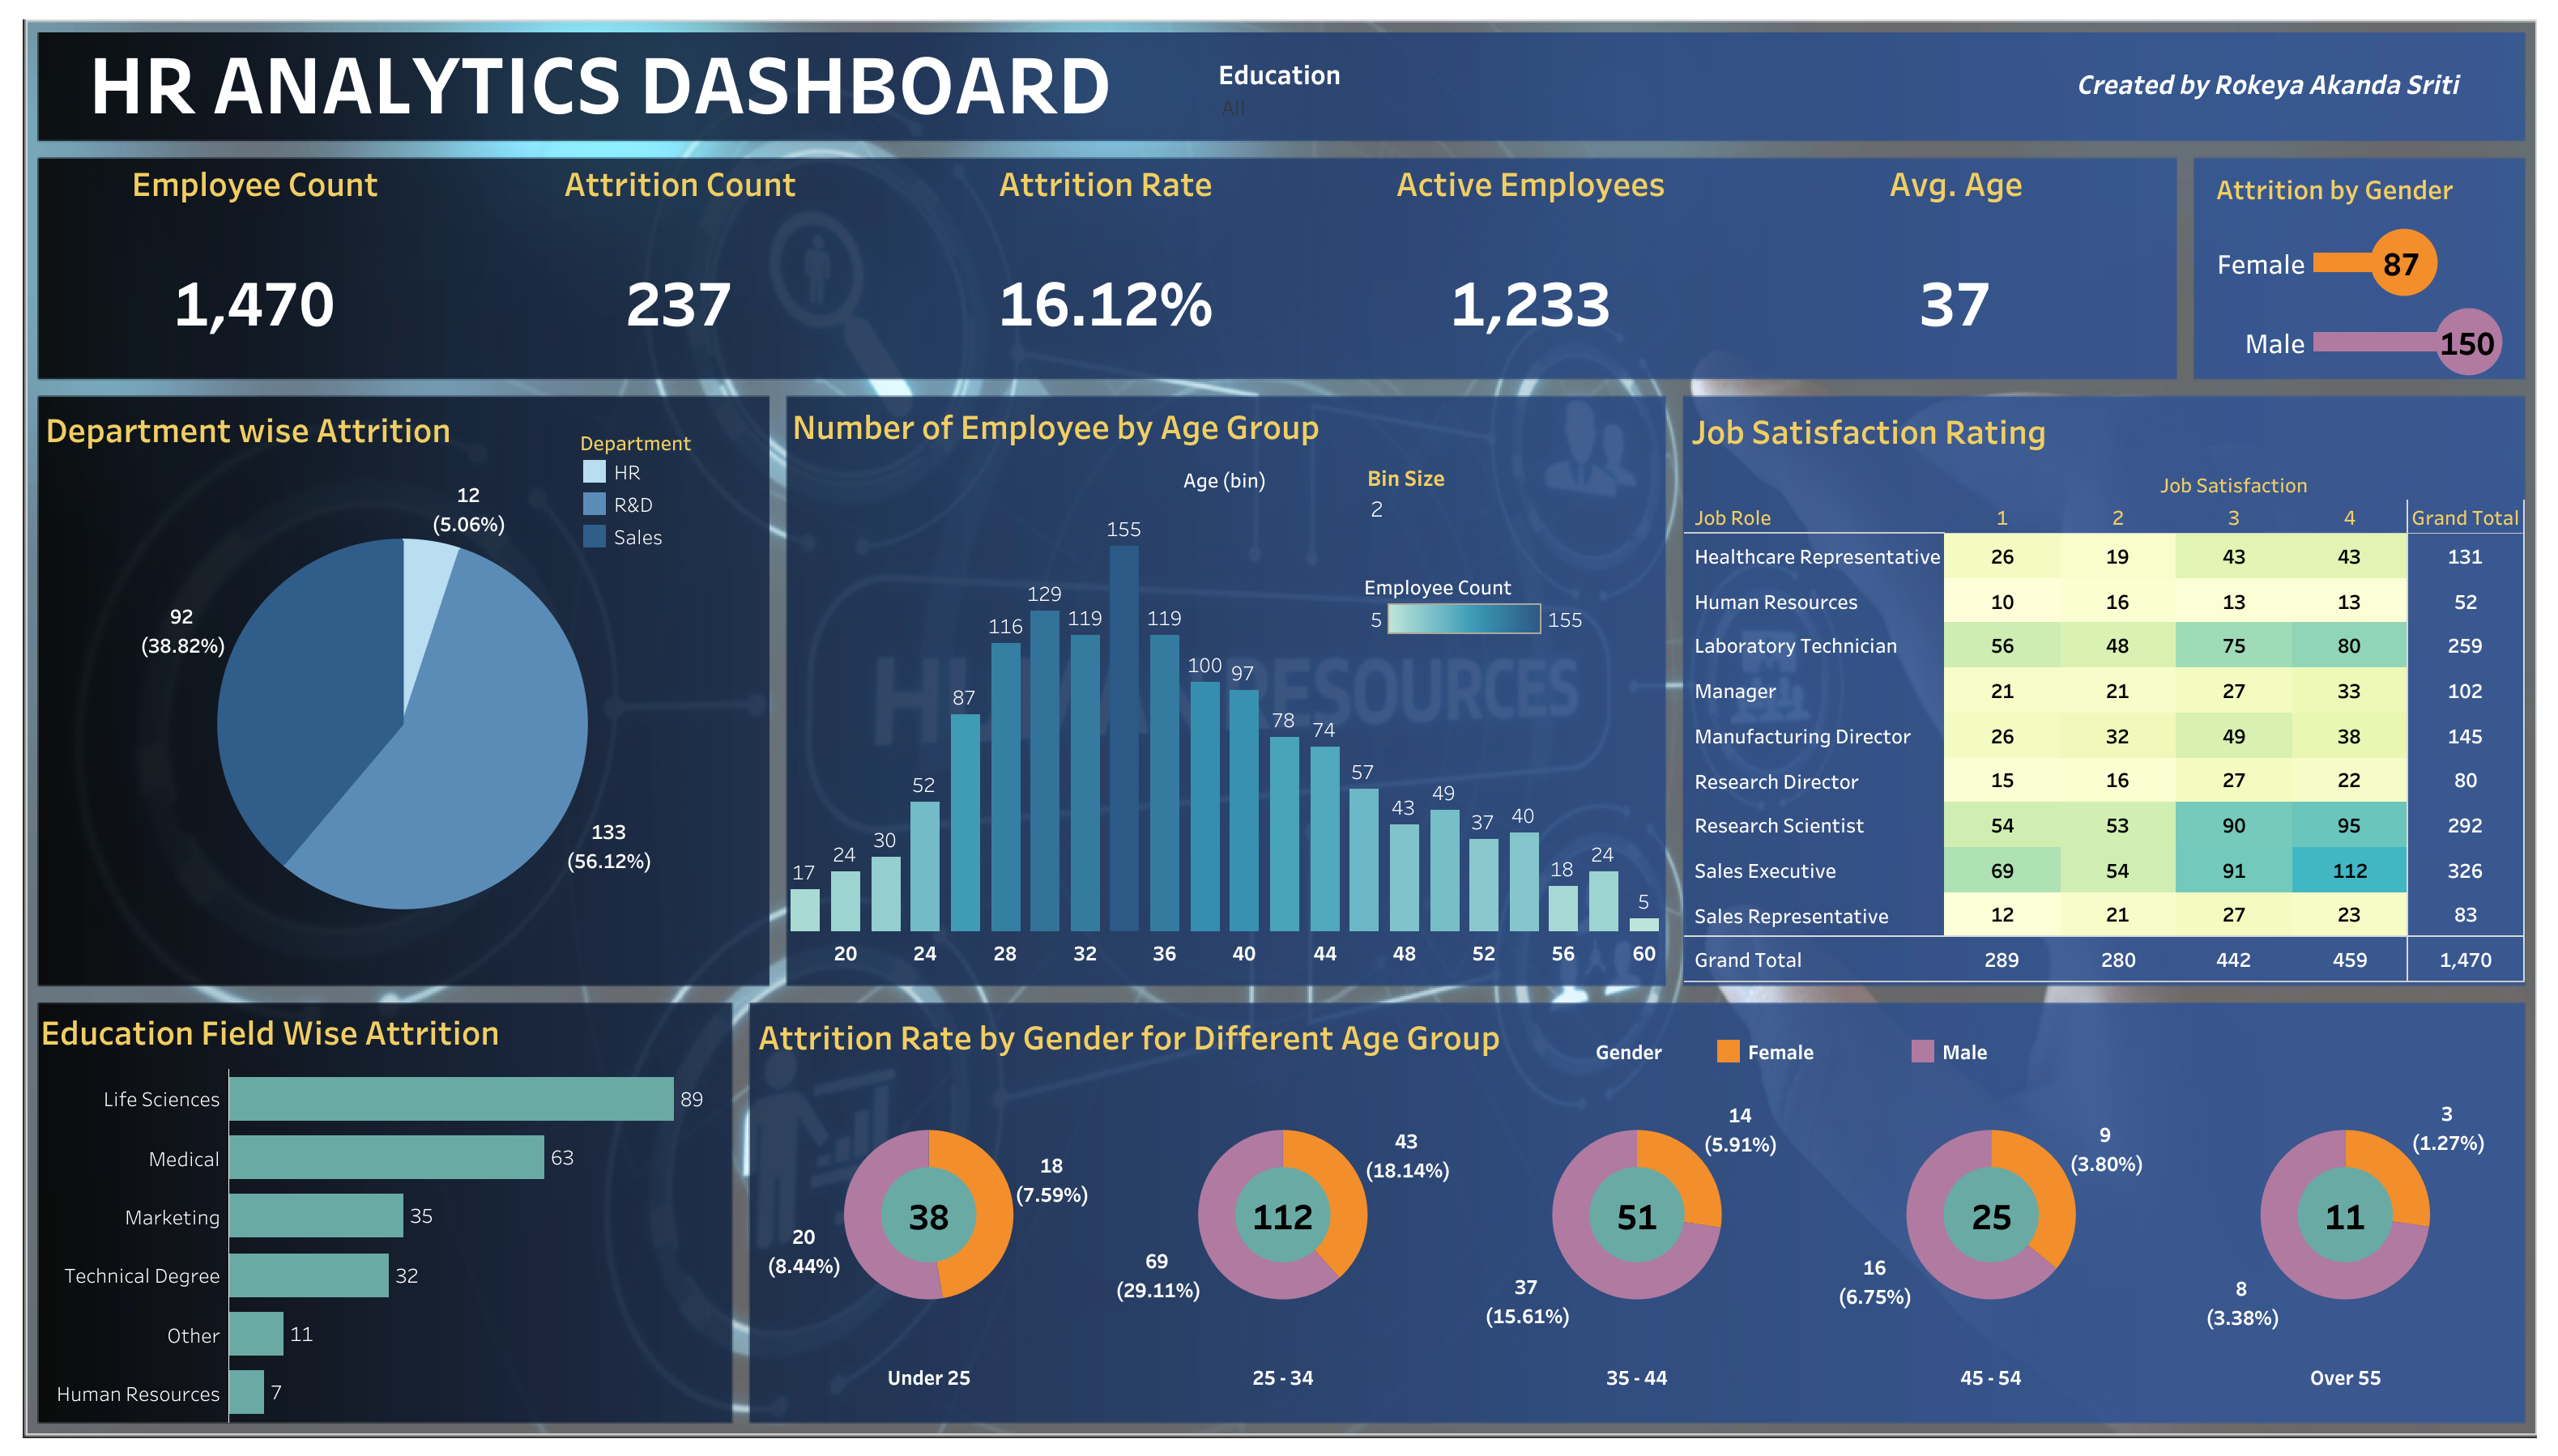

What the dashboard file says about the page in this screenshot:
{"tool":"tableau","page":{"name":"HR ANALYTICS DASHBOARD","canvas":[1580,900],"ordinal":0},"visuals":[{"type":"image","param":"Image/4.png","box":[8,8,1564,884]},{"type":"text","box":[52,15,898,69]},{"type":"filter","title":"KPI","param":"[federated.0g354gf1671diy1787klo1vry2h1].[none:Education:nk]","box":[752,33,166,44]},{"type":"worksheet","title":"KPI","mark":"Automatic","box":[26,99,1313,133]},{"type":"worksheet","title":"Attrition by Gender","mark":"Automatic","rows":["Gender"],"cols":["Calculation_276549202429042688","Calculation_276549202429042688"],"box":[1364,99,186,137]},{"type":"worksheet","title":"Number of Employee by Age Group","mark":"Automatic","rows":["Employee Count"],"cols":["Age (bin)"],"box":[485,243,542,365]},{"type":"worksheet","title":"Department wise Attrition","mark":"Pie","box":[24,245,449,361]},{"type":"worksheet","title":"Job Satisfaction Rating","mark":"Square","rows":["Job Role"],"cols":["Job Satisfaction"],"box":[1040,246,519,361]},{"type":"legend","title":"Department wise Attrition","param":"[federated.0g354gf1671diy1787klo1vry2h1].[none:Department:nk]","box":[357,262,109,78]},{"type":"parameter","param":"[Parameters].[Parameter 1]","box":[844,284,167,48]},{"type":"legend","title":"Number of Employee by Age Group","param":"[federated.0g354gf1671diy1787klo1vry2h1].[sum:Employee Count:qk]","box":[842,349,140,76]},{"type":"worksheet","title":"Education Field Wise Attrition","mark":"Automatic","rows":["Education Field"],"cols":["Calculation_276549202429042688"],"box":[21,617,432,261]},{"type":"worksheet","title":"Attrition Rate by Gender for Different Age Group","mark":"Pie","rows":["Calculation_276549202465378308","Calculation_276549202465378308"],"cols":["CF_age band"],"box":[464,620,1093,256]},{"type":"legend","title":"Attrition Rate by Gender for Different Age Group","param":"[federated.0g354gf1671diy1787klo1vry2h1].[none:Gender:nk]","box":[985,639,457,19]}]}

Visuals, with their boxes in screenshot pixels (x1, y1, x2, y2), scaled from the page's 1580x900 canvas onto the 2558x1456 screenshot:
image: (left=13, top=13, right=2545, bottom=1443)
text: (left=84, top=24, right=1538, bottom=136)
"KPI" filter: (left=1217, top=53, right=1486, bottom=125)
"KPI" worksheet: (left=42, top=160, right=2168, bottom=375)
"Attrition by Gender" worksheet: (left=2208, top=160, right=2509, bottom=381)
"Number of Employee by Age Group" worksheet: (left=785, top=393, right=1663, bottom=984)
"Department wise Attrition" worksheet (Pie marks): (left=39, top=396, right=765, bottom=981)
"Job Satisfaction Rating" worksheet (Square marks): (left=1684, top=398, right=2524, bottom=982)
"Department wise Attrition" legend: (left=578, top=424, right=754, bottom=550)
parameter: (left=1366, top=459, right=1637, bottom=537)
"Number of Employee by Age Group" legend: (left=1363, top=564, right=1590, bottom=688)
"Education Field Wise Attrition" worksheet: (left=34, top=998, right=733, bottom=1420)
"Attrition Rate by Gender for Different Age Group" worksheet (Pie marks): (left=751, top=1003, right=2521, bottom=1417)
"Attrition Rate by Gender for Different Age Group" legend: (left=1595, top=1034, right=2334, bottom=1065)
